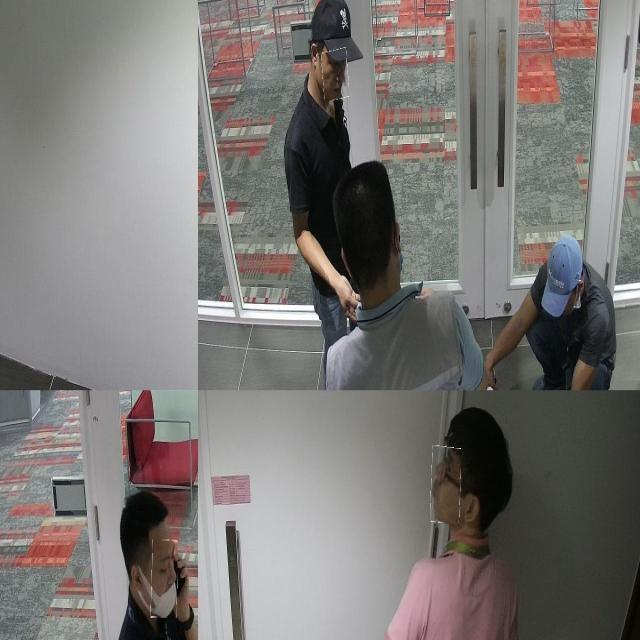hairnet: (151, 540, 177, 618)
